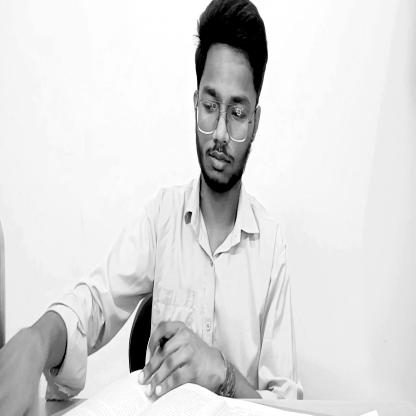Normal: (190, 4, 272, 198)
